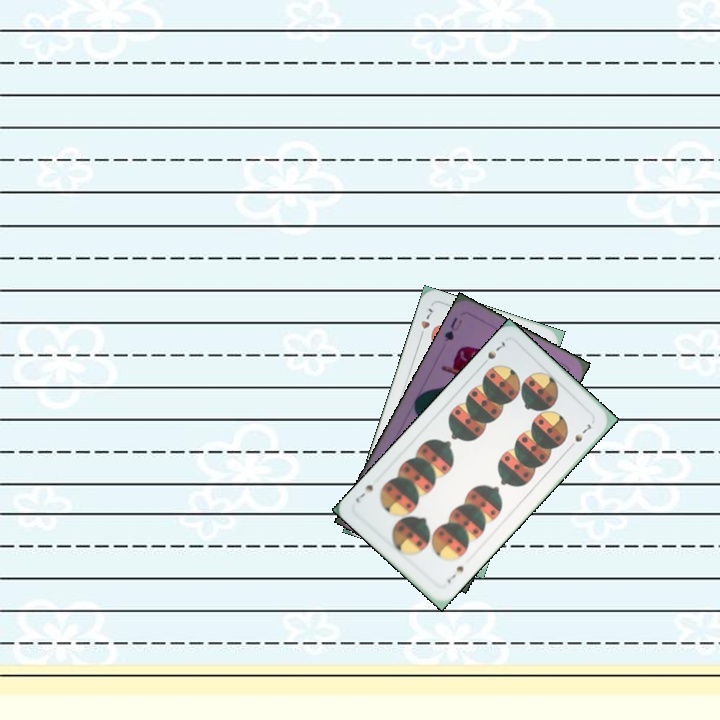GU: (440, 313, 465, 344)
H7: (415, 304, 436, 342)
S7: (477, 336, 508, 369), (443, 562, 466, 586)
